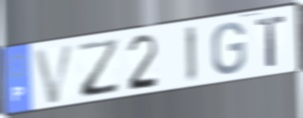2: (125, 33, 160, 93)
G: (210, 21, 248, 77)
I: (183, 24, 199, 85)
T: (254, 13, 288, 69)
V: (31, 41, 77, 107)
Z: (76, 36, 122, 100)
